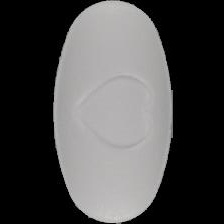54868-4199: (0, 0, 224, 224)
